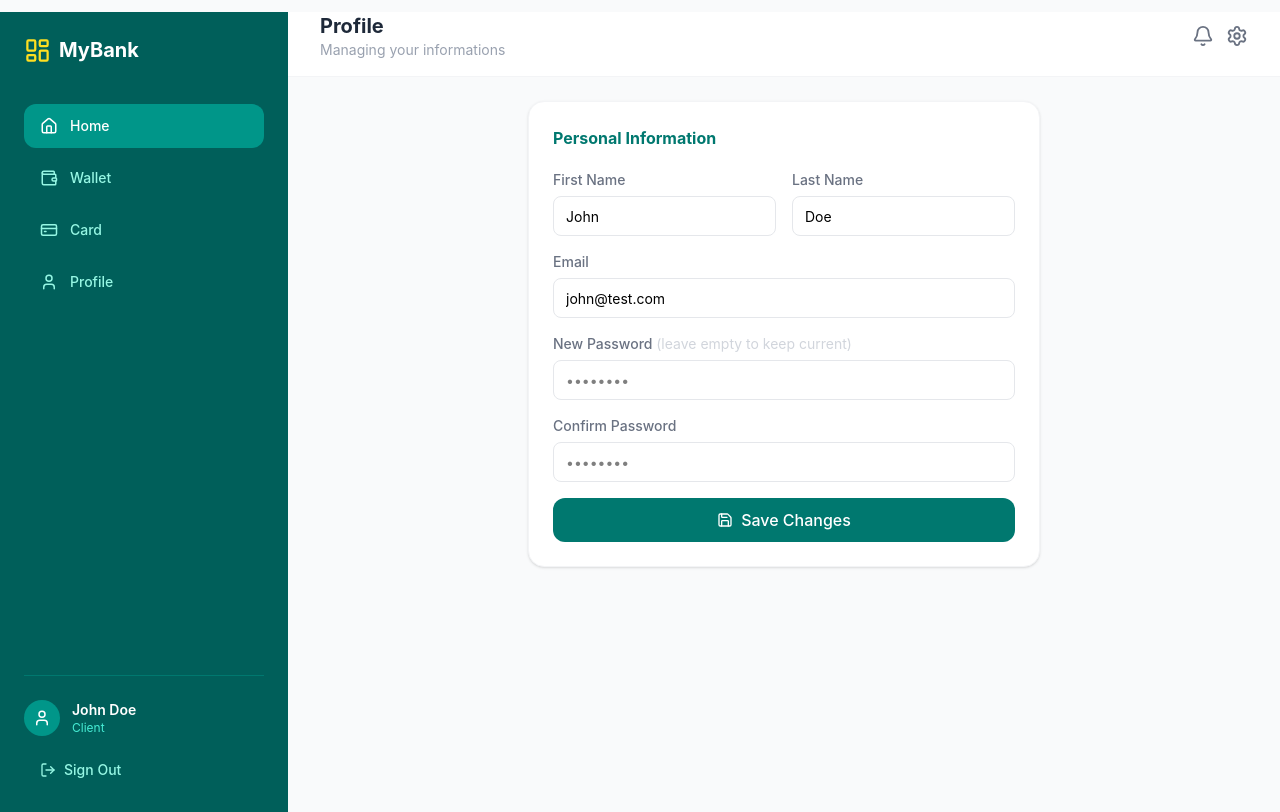
Test case: Profile › shows error message on API failure
Click the button "Save Changes": {"x": 784, "y": 520} x1=553 y1=498 x2=1015 y2=542
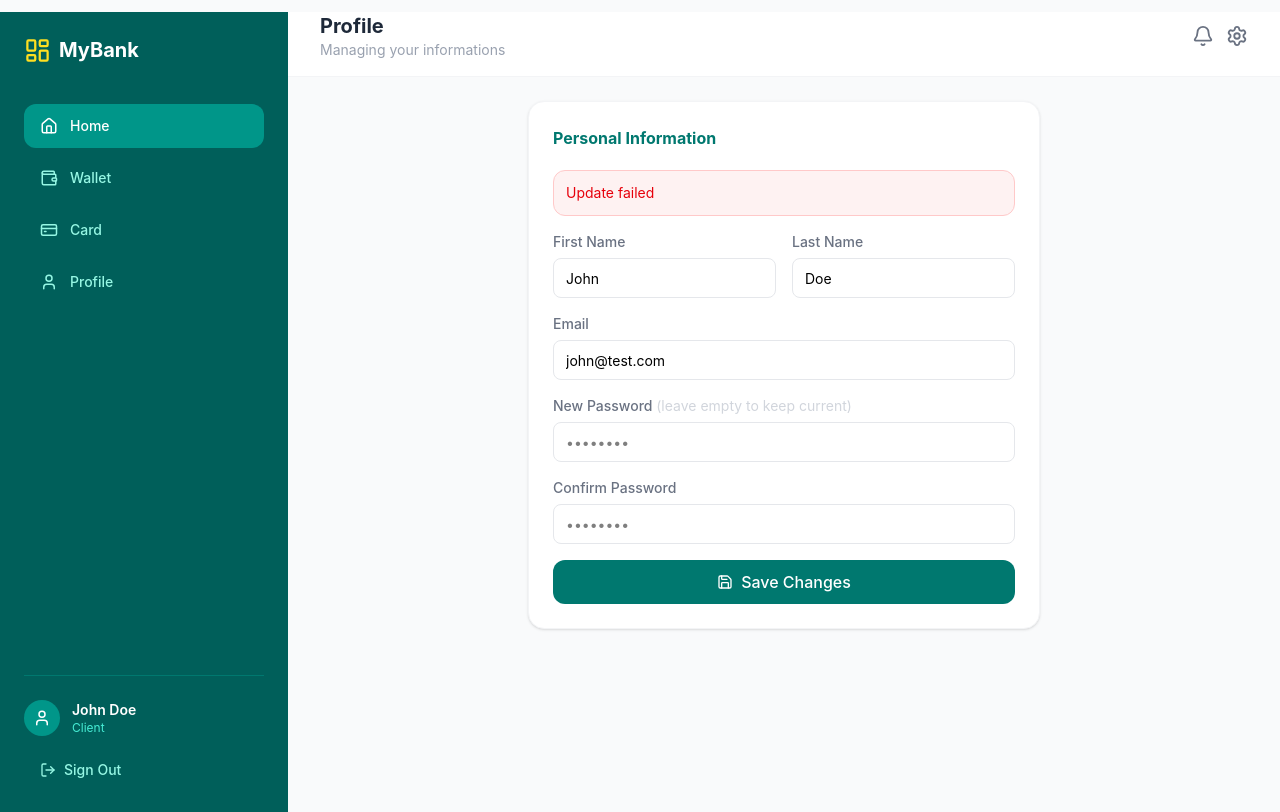
Result: the text "Update failed" is shown at x1=553 y1=170 x2=1015 y2=216
